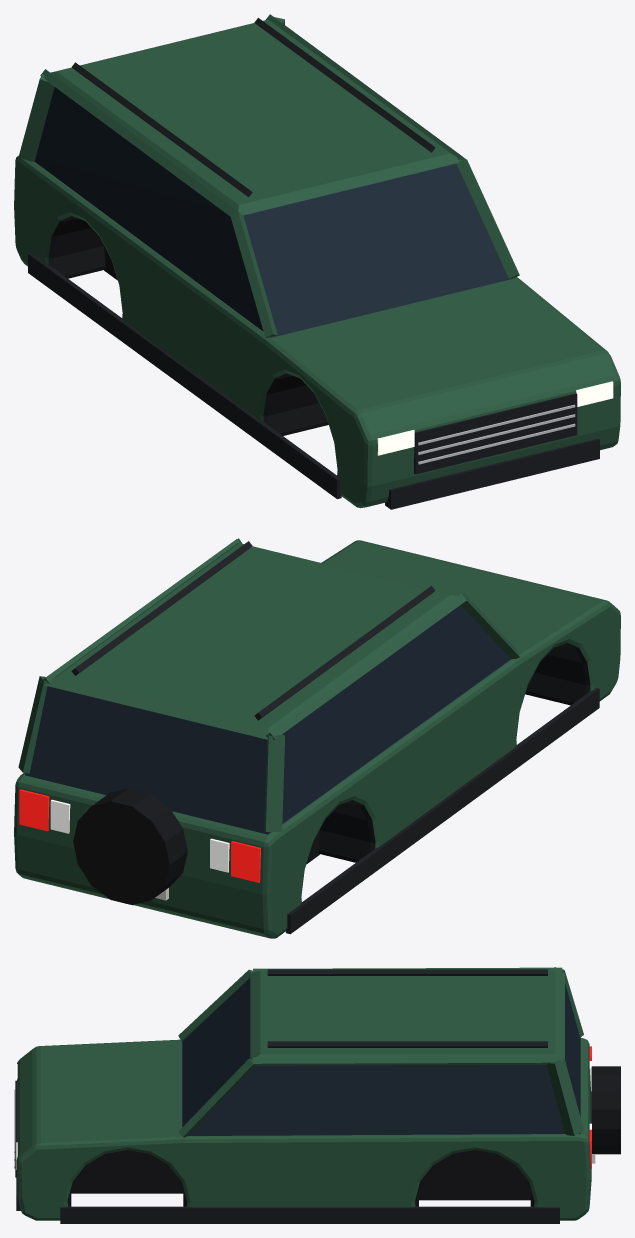
The model's file is veh_suv_body.glb.
3 renders of one model, top to bottom at view 1: azimuth 30°, elevation 25°; view 2: azimuth 150°, elevation 25°; view 3: azimuth 270°, elevation 25°, orthographic. The views are drawn at different scales.
Parts seen in each view (by area): view 1: veh_suv_body; view 2: veh_suv_body; view 3: veh_suv_body.
Part boxes in pixels (x1,y1,x2,y2): veh_suv_body: (14,14,620,509); veh_suv_body: (14,538,620,938); veh_suv_body: (14,967,620,1223).
Bounding box in the file's own units: 2.02 × 1.51 × 4.98.
